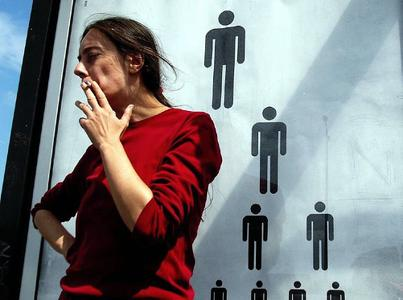person: (33, 16, 226, 299)
